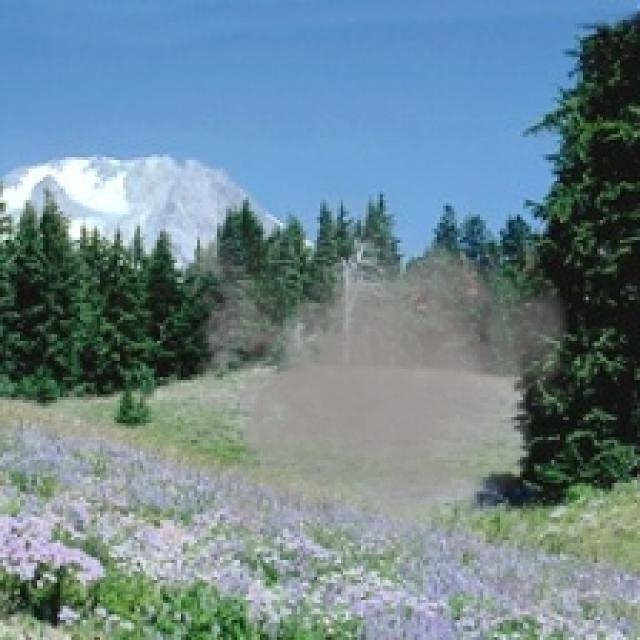smoke: (175, 177, 574, 592)
